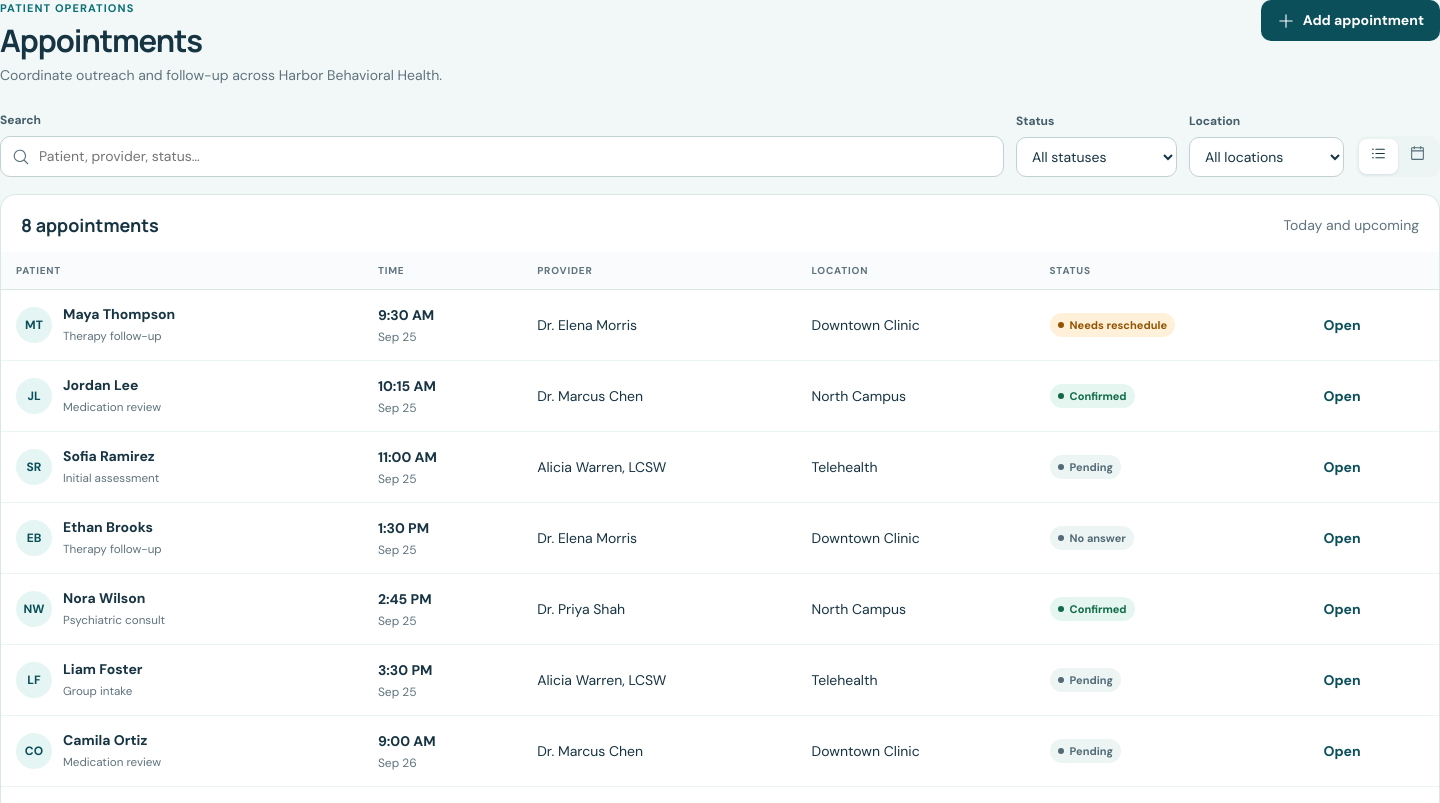
AppointmentsPage › shows a recoverable empty state when filters have no matches
Type "Nobody Matches" into the search field named "Search appointments" at (502, 157), box [0, 136, 1004, 177]
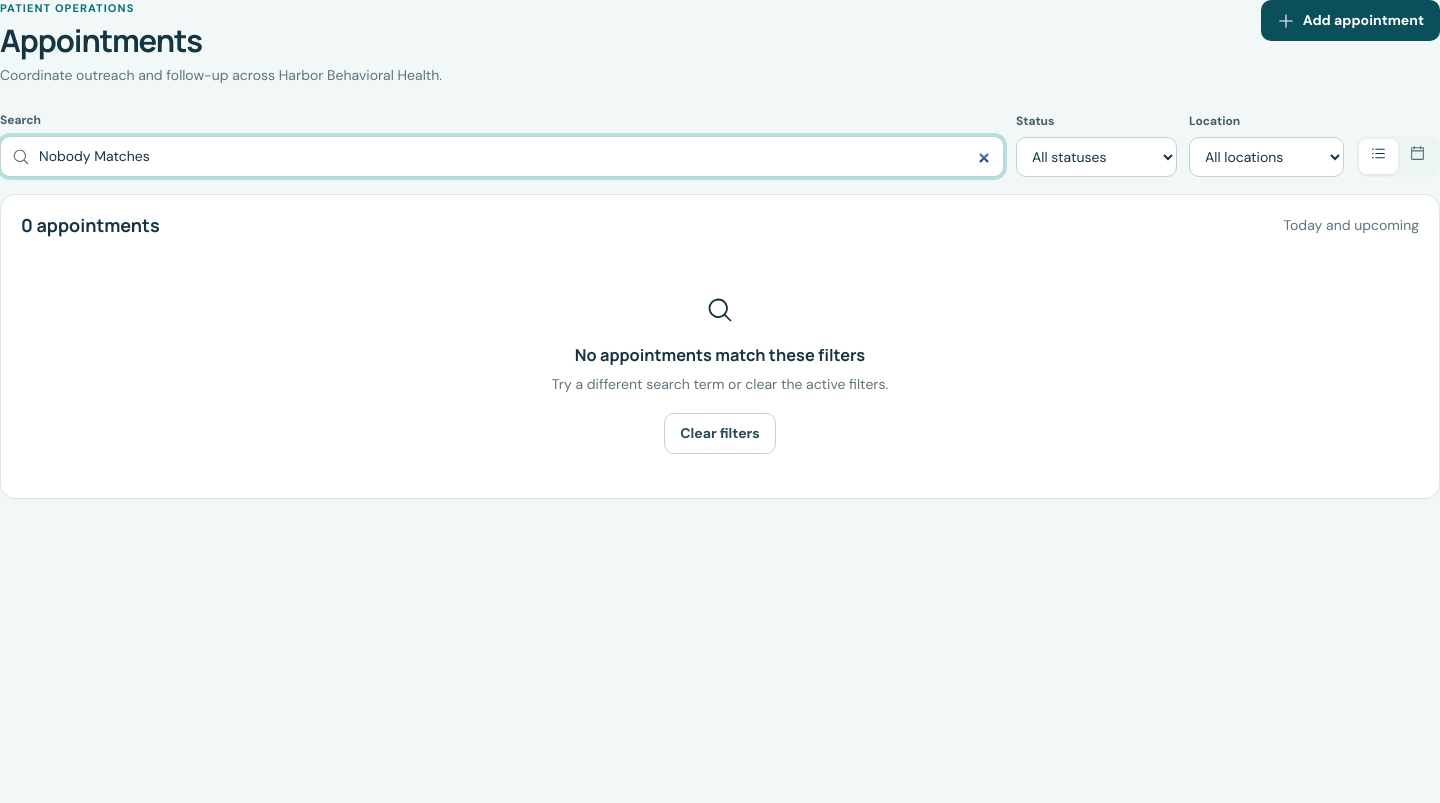
expect the heading "No appointments match these filters" is shown: met, box [575, 344, 865, 366]
expect the button "Clear filters" is shown: met, box [664, 413, 776, 454]
